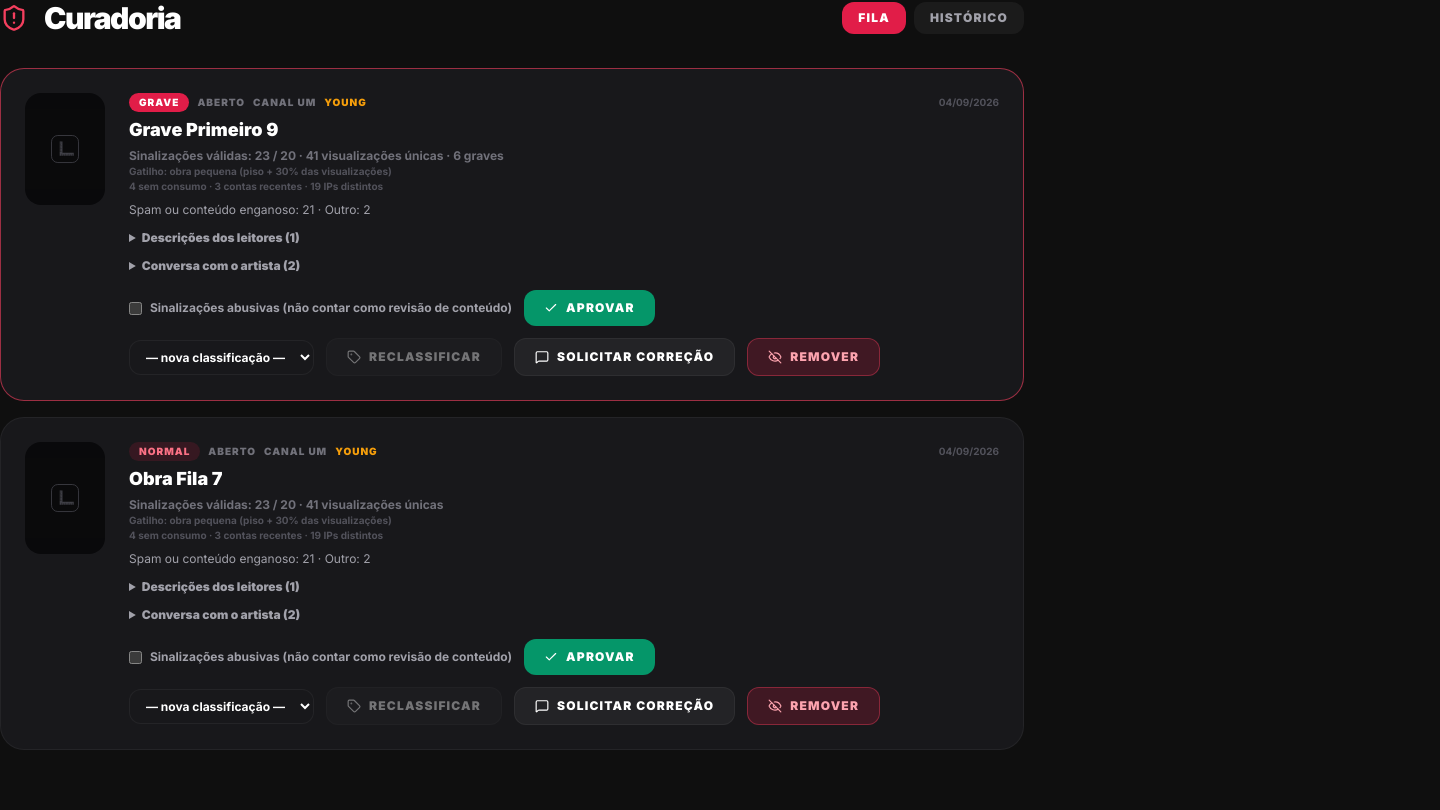
Test case: CuradoriaPanel — 409 e recarga da fila › 409 de disputa com o caso ainda na fila: modal CONTINUA aberto, com o texto digitado e o erro dentro dele
Click the 2nd button "Remover" at (814, 706), box 747,687 -> 880,725
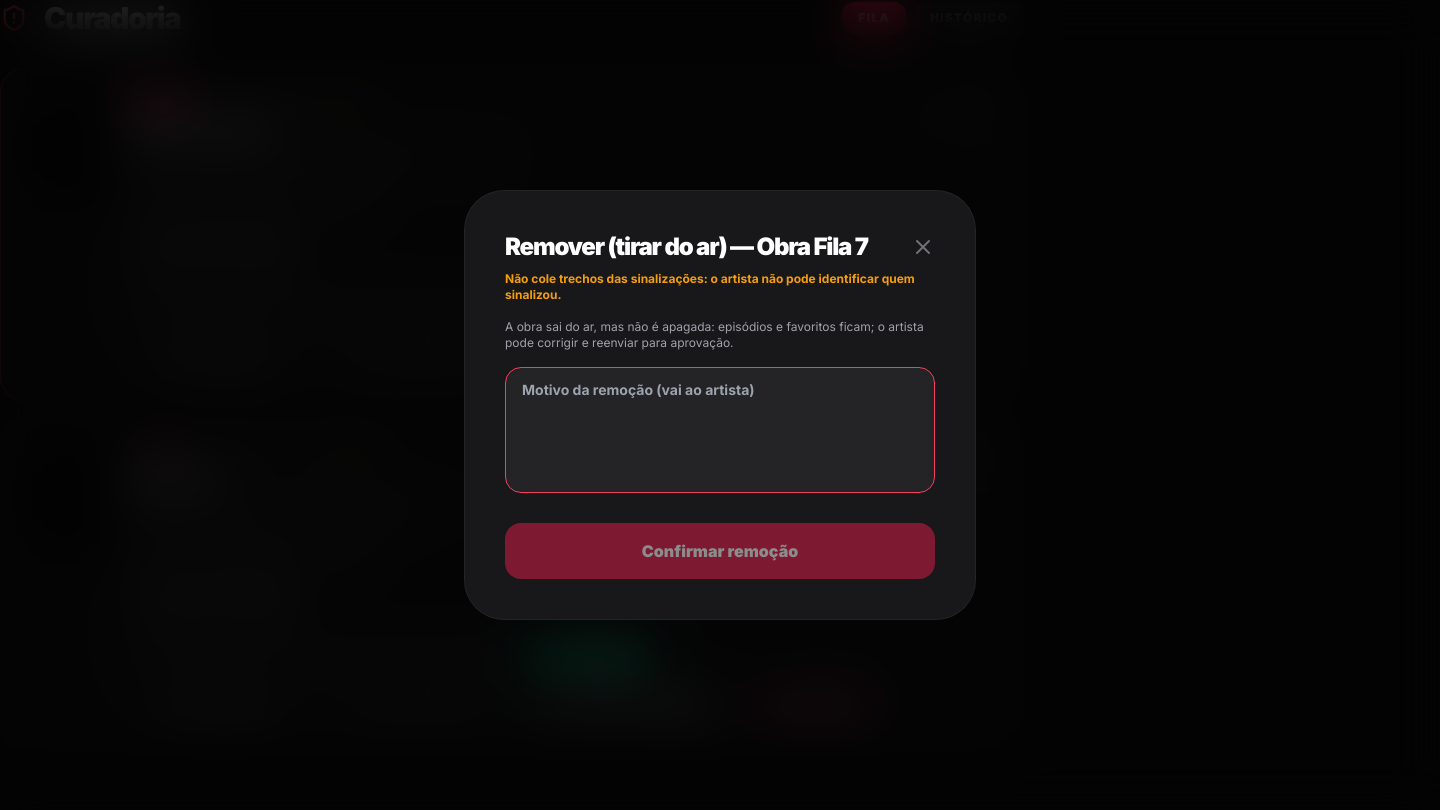
Type "Cópia confirmada, com evidências." into the text box with placeholder "Motivo da remoção (vai ao artista)" at (720, 430), box 505,367 -> 935,493
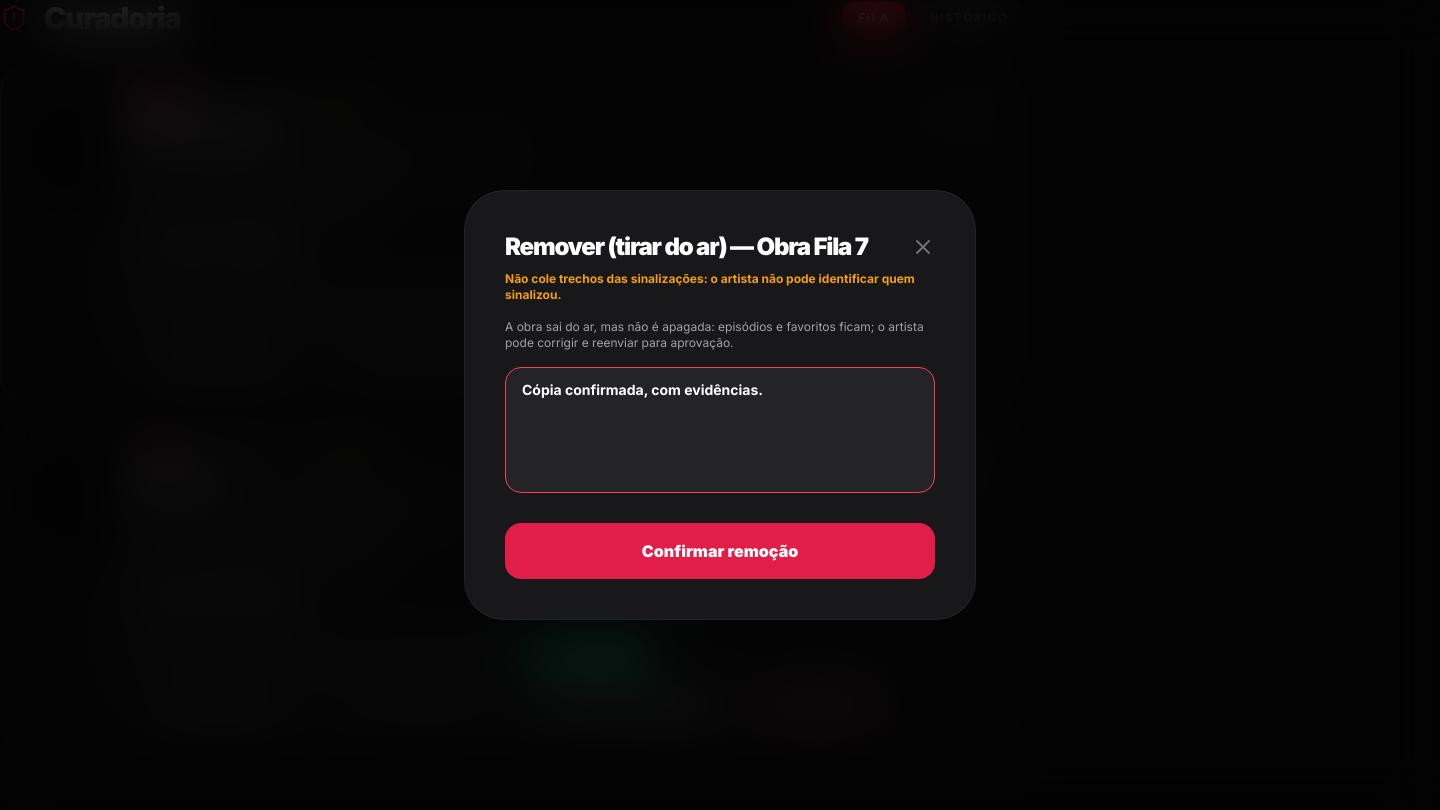
Click the button "Confirmar remoção" at (720, 551), box 505,523 -> 935,579
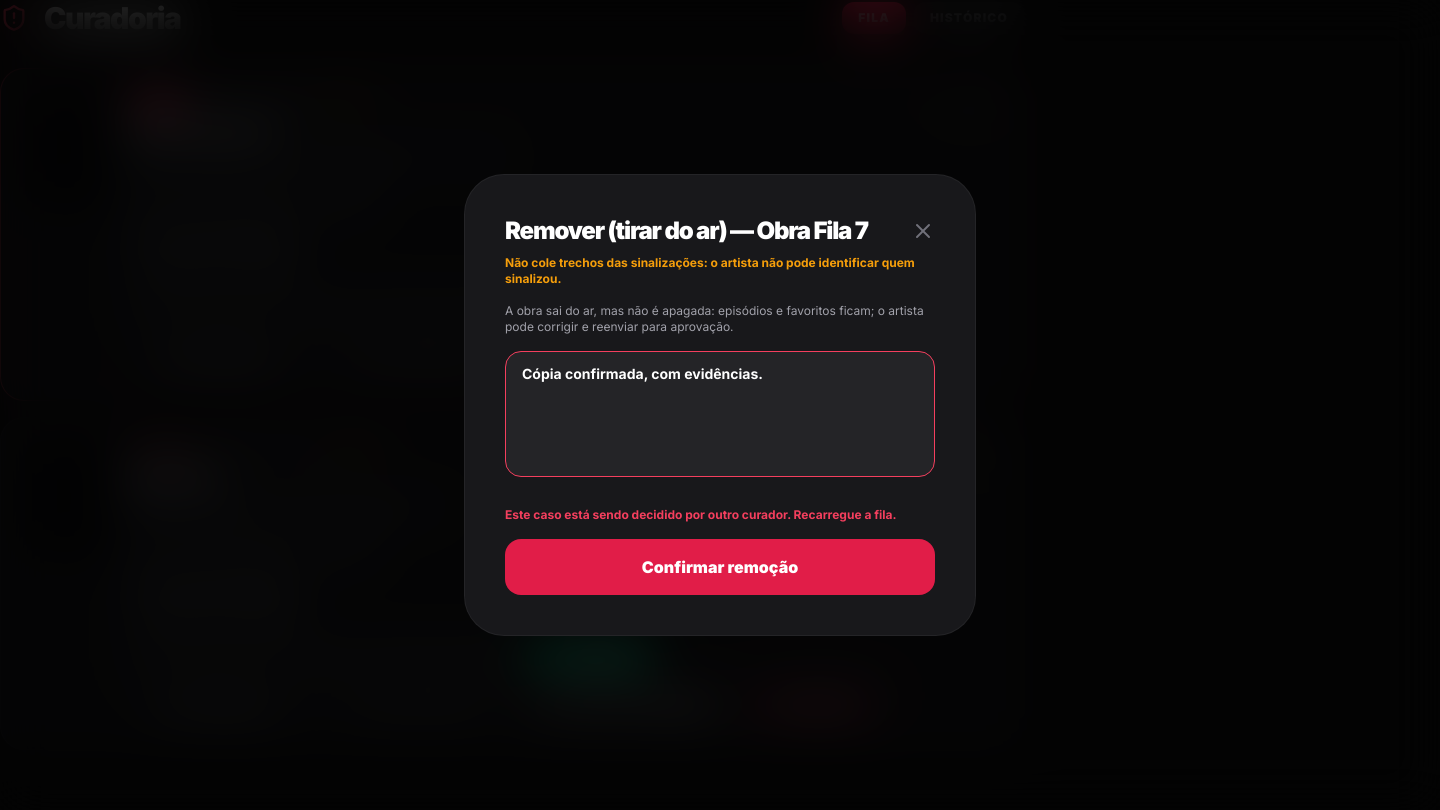
Result: the dialog is shown at 464,174 -> 976,636
Result: the button "Confirmar remoção" is enabled at 505,539 -> 935,595
Result: the message shows "outro curador" at 505,507 -> 897,522
